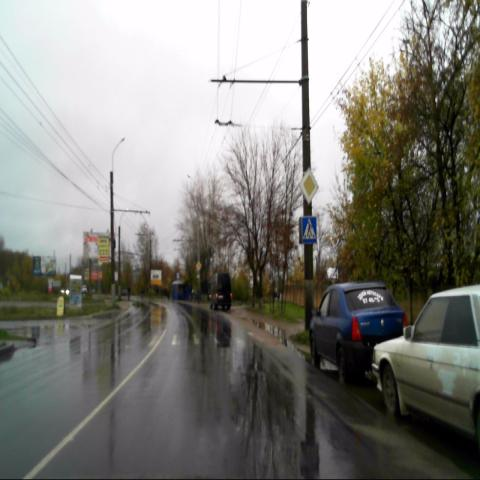2_1: (299, 167, 320, 205)
5_19_1: (301, 216, 317, 244)
